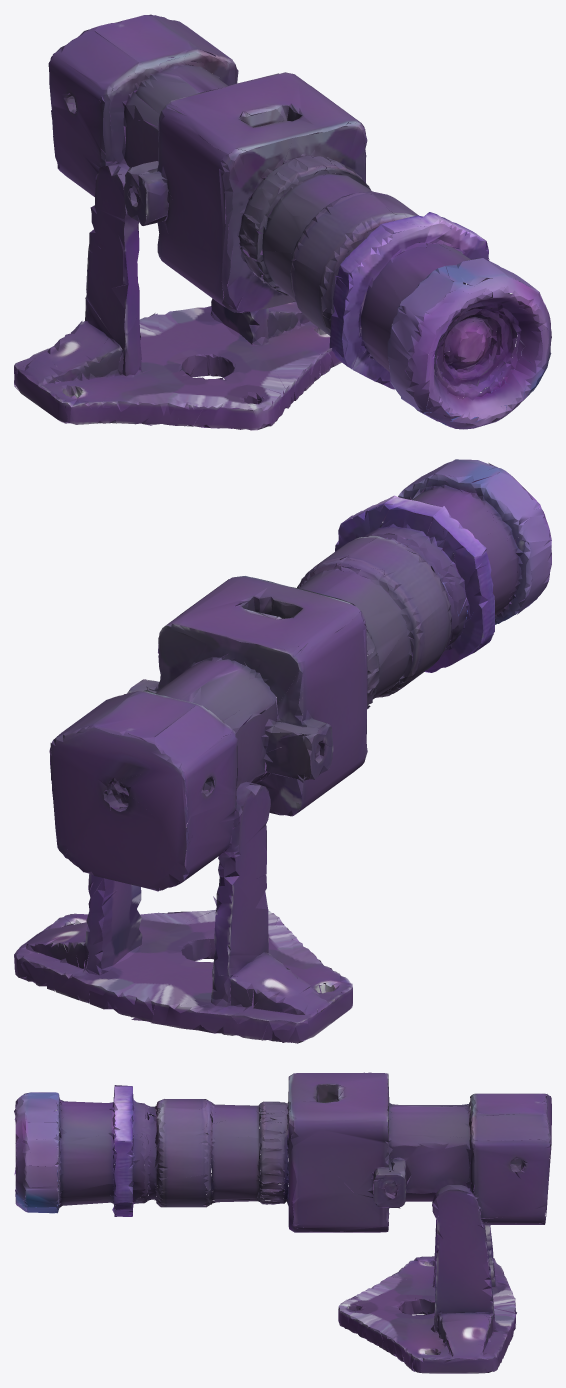
The model's file is supergt_gatling.glb.
3 views of the same model, one above another, from view 1: azimuth 30°, elevation 25°; view 2: azimuth 150°, elevation 25°; view 3: azimuth 270°, elevation 25° (orthographic). The views are drawn at different scales.
Visible parts, largest first — view 1: Gatling_Super_GT_x; view 2: Gatling_Super_GT_x; view 3: Gatling_Super_GT_x.
Boxes of the visible parts, <box> form: Gatling_Super_GT_x: <box>14,14,551,430</box>; Gatling_Super_GT_x: <box>14,459,551,1043</box>; Gatling_Super_GT_x: <box>14,1072,551,1373</box>.
Bounding box in the file's own units: 0.3641 × 0.3803 × 0.8024.
1 material, 1 textured.
